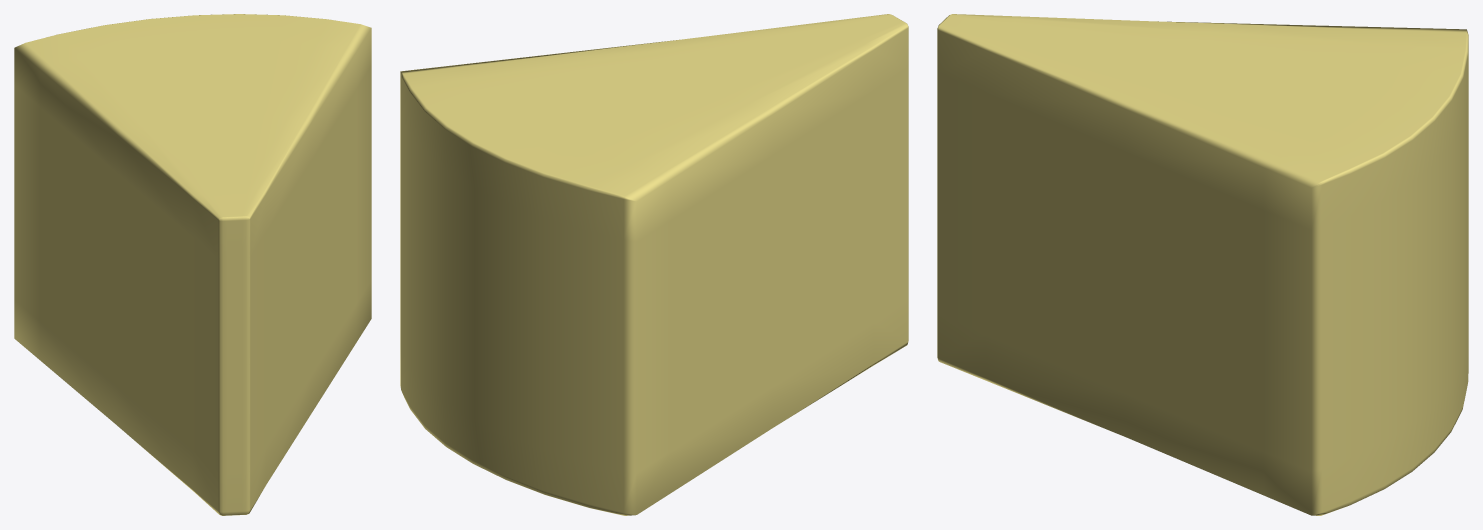
The model's file is cheese.fbx.
The picture shows the model from 3 angles, left to right: view 1: azimuth 30°, elevation 25°; view 2: azimuth 150°, elevation 25°; view 3: azimuth 270°, elevation 25°; orthographic projection. The views are drawn at different scales.
Visible parts, largest first — view 1: cheese; view 2: cheese; view 3: cheese.
Boxes of the visible parts, bbox=[...] form: cheese: bbox=[14, 14, 371, 515]; cheese: bbox=[400, 14, 908, 515]; cheese: bbox=[937, 14, 1468, 515].
Bounding box in the file's own units: 267 × 244 × 349.
